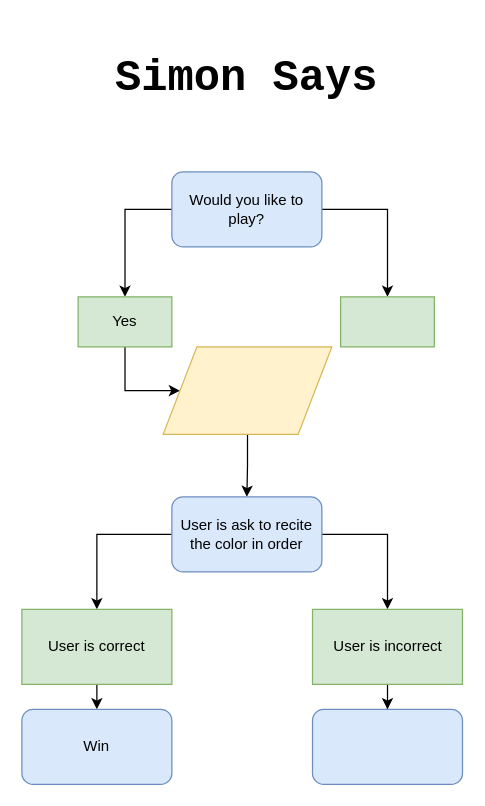
The diagram is 485 pixels wide and 806 high, and some of its shapes have lost their labels. The shapes that lost their labels are listed below. From the top down, each one's box as (x1, y1, x2, y2) in pixels, then its label:
(339, 296, 434, 347): No
(162, 346, 332, 434): Random Colors & Timer Initialized
(311, 708, 462, 784): Loss
